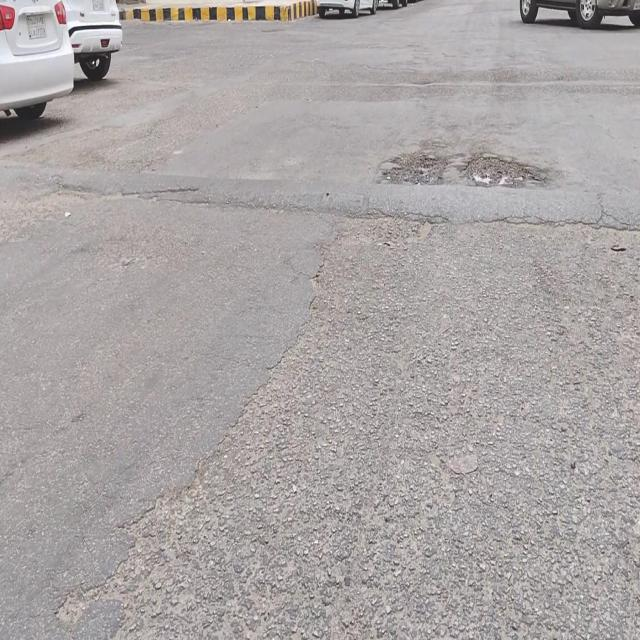Potholes: (457, 151, 545, 184), (379, 148, 448, 183)
